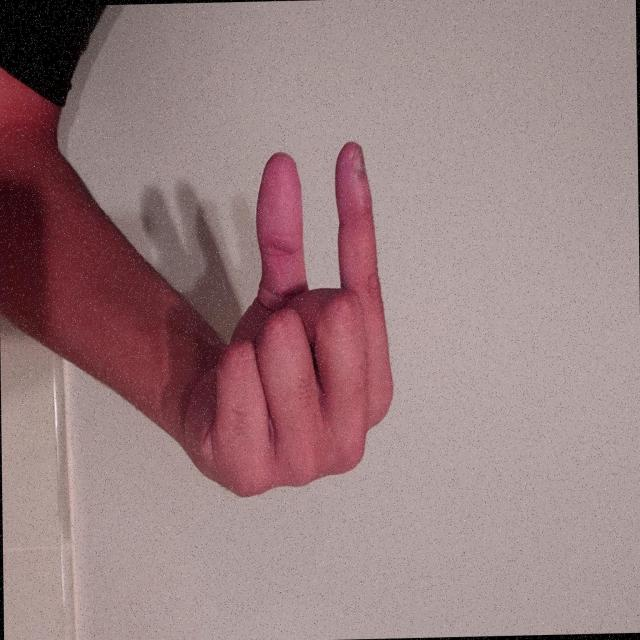Q: (264, 319, 540, 616)
